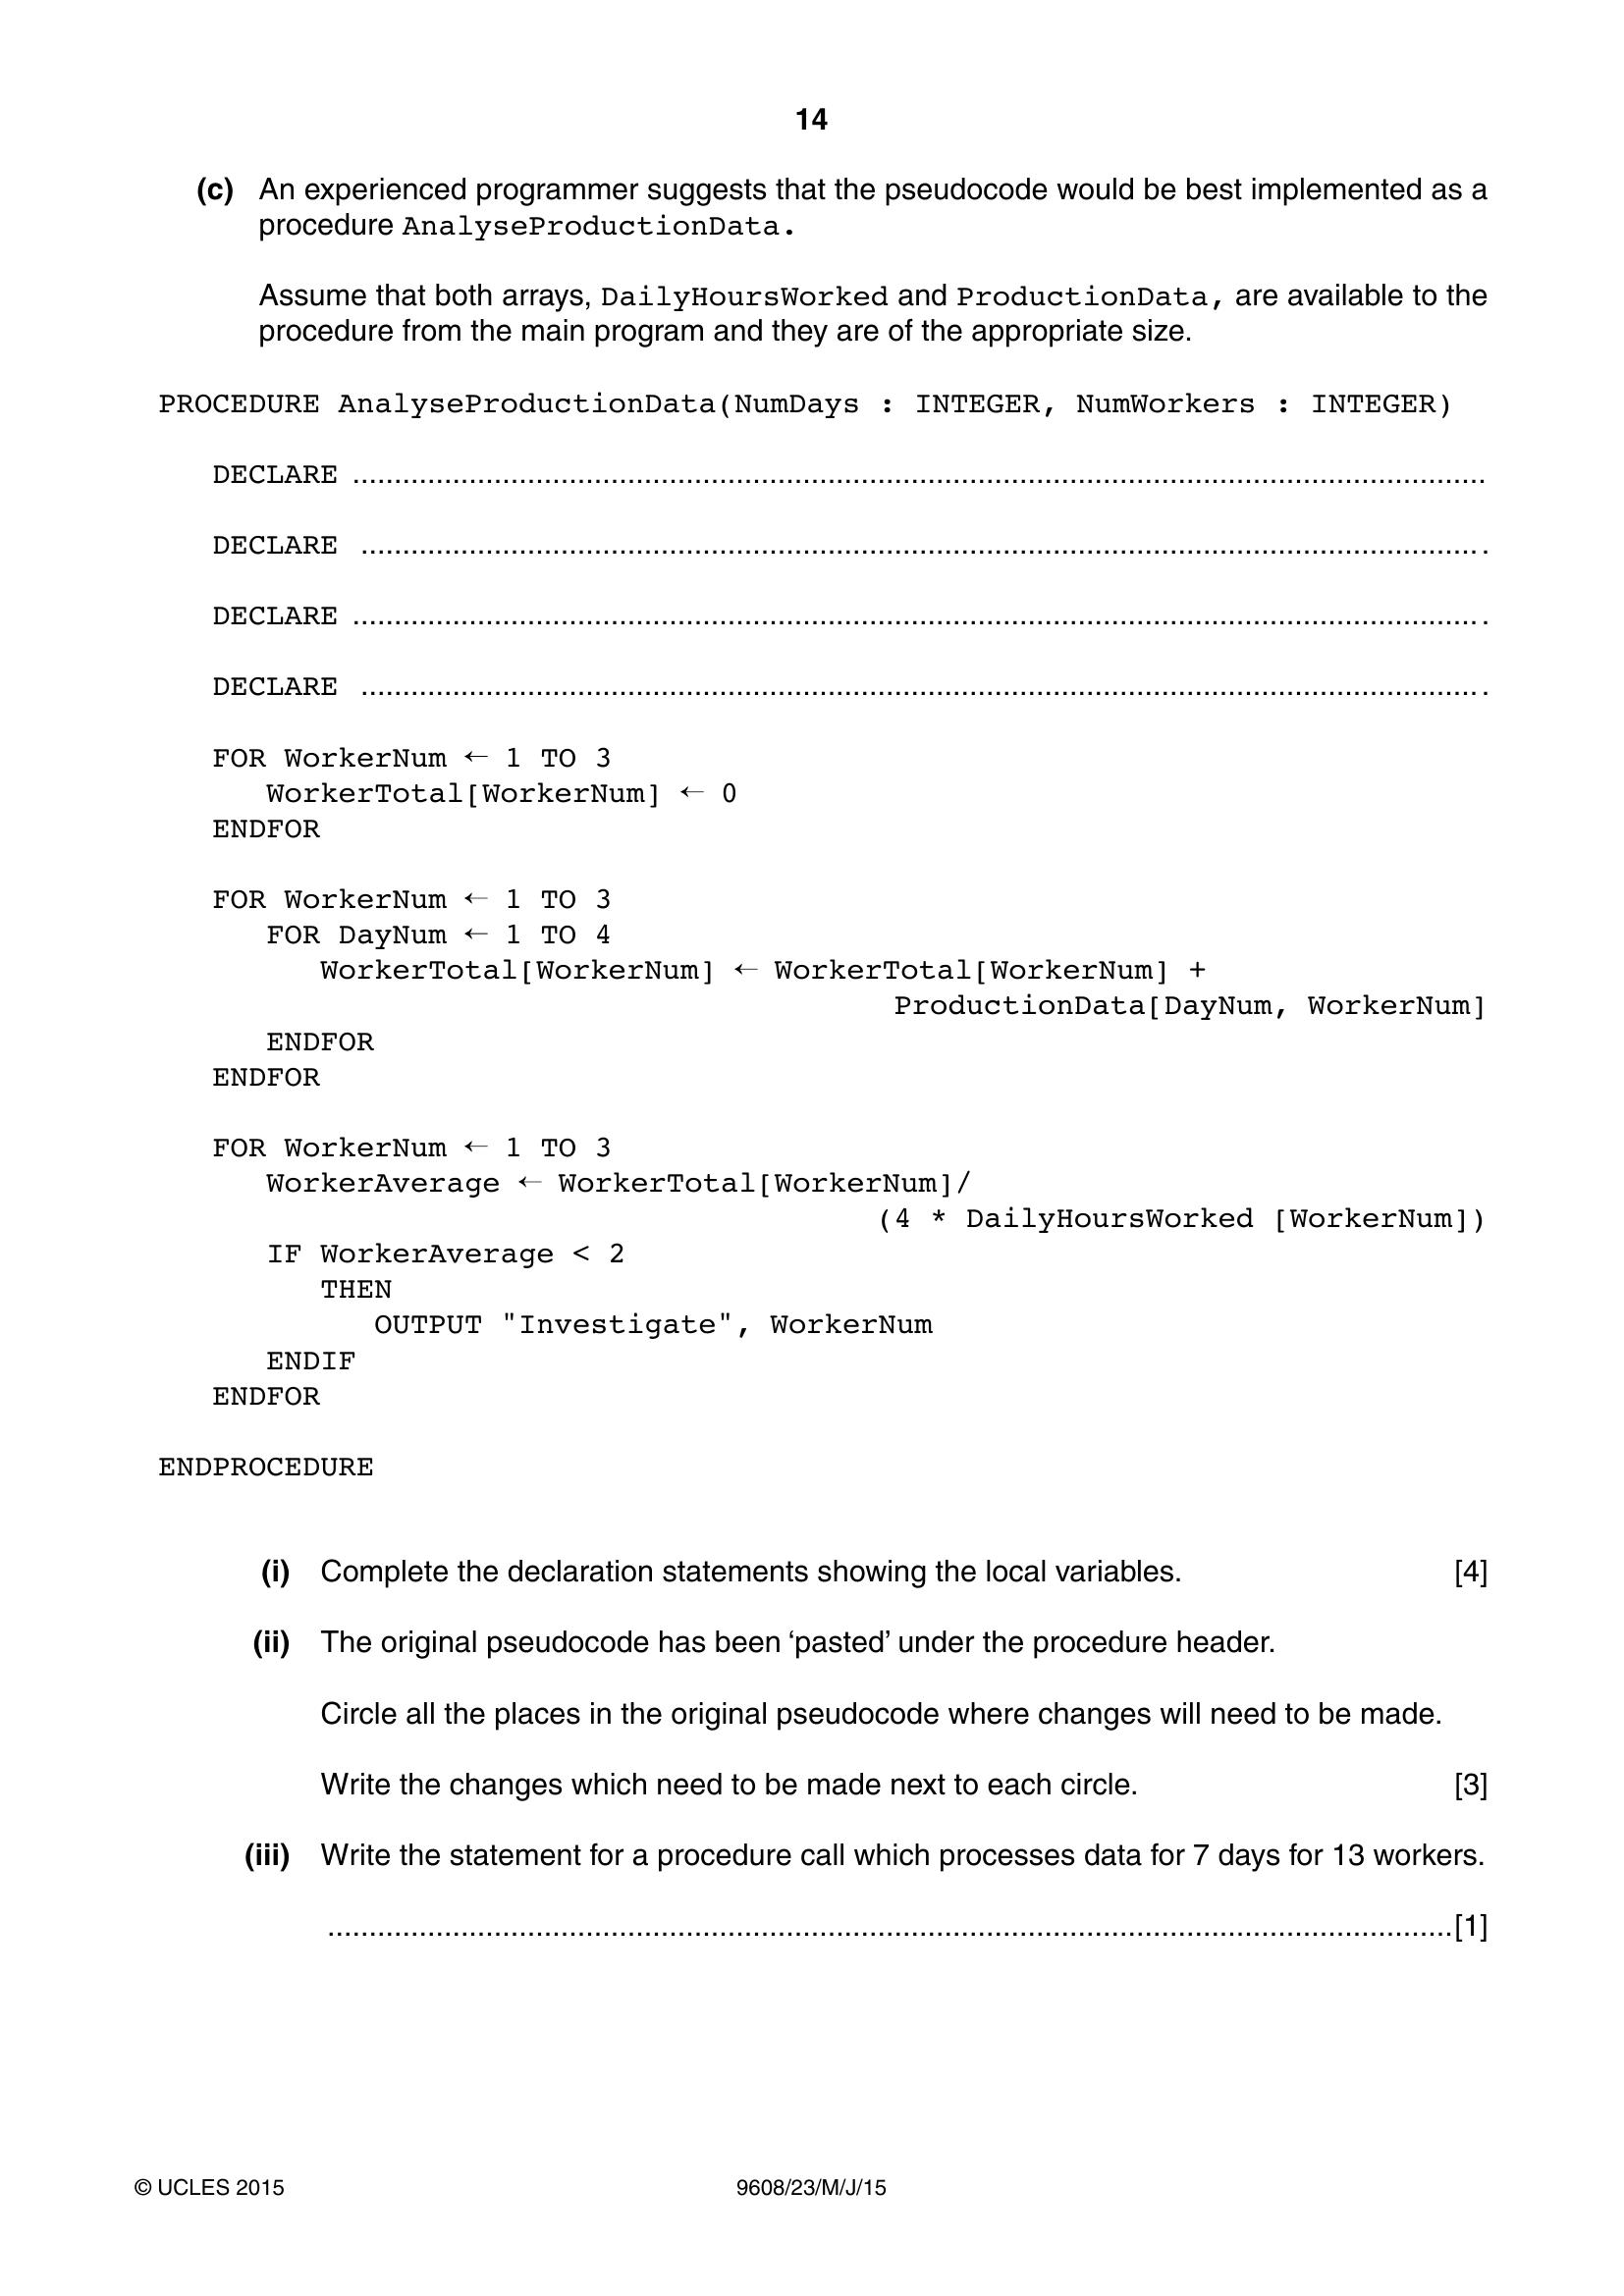continued question: (2, 155, 1622, 2015)
